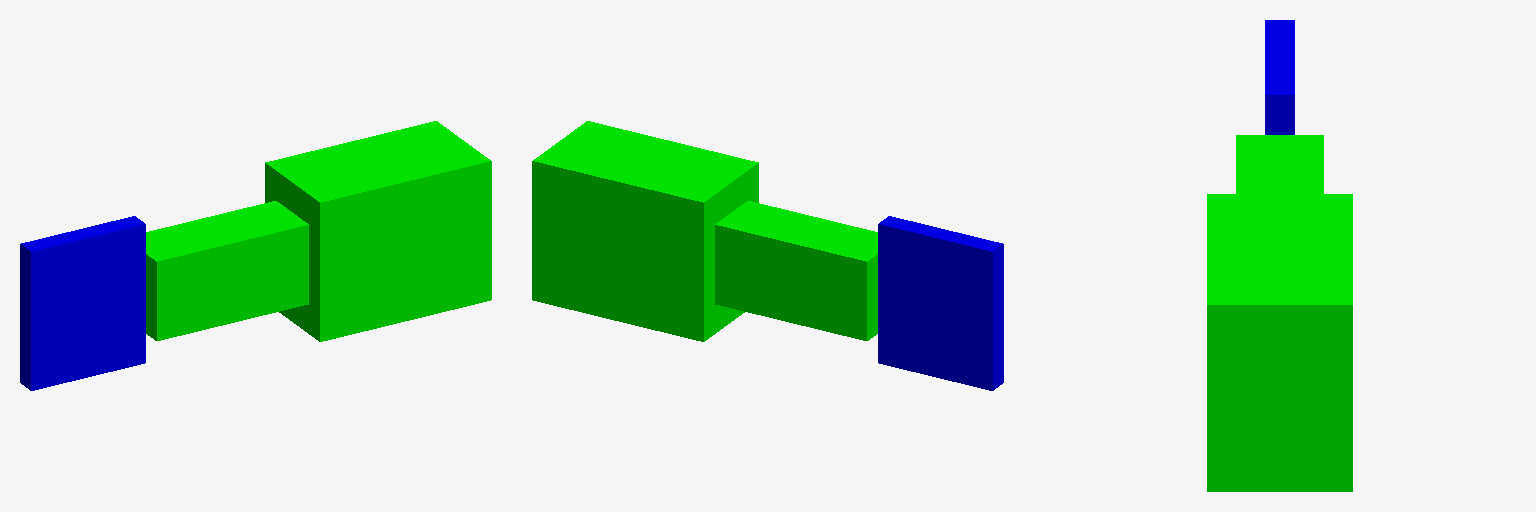
The robot description file, URDF, robot "robot":
<robot name = "robot">
    <link name="root">
        <inertial>
            <origin xyz="0.0 0.0 1.5" rpy="0 0 0"/>
            <mass value="1" />
            <inertia ixx="100" ixy="0" ixz="0" iyy="100" iyz="0" izz="100" />
        </inertial>
        <visual>
            <origin xyz="0.0 0.0 1.5" rpy="0 0 0"/>
            <geometry>
                <box size="0 0 0.0001" />
            </geometry>
            <material name="Green">
                <color rgba="0 1.0 0.0 1.0"/>
            </material>
        </visual>
        <collision>
            <origin xyz="0.0 0.0 1.5" rpy="0 0 0"/>
            <geometry>
                <box size="0 0 0.0001" />
            </geometry>
        </collision>
    </link>
    <joint name="root_000" type="revolute">
       <parent link="root"/>
       <child  link="000"/>
       <origin rpy="0 0 0" xyz="0.0 0.0 1.5" />
     <axis xyz="1 0 0"/>
       <limit effort="0.0" lower="-3.14159" upper="3.14159" velocity="0.0"/>
    </joint>
    <link name="000">
        <inertial>
            <origin xyz="0.0 0.0 -0.35" rpy="0 0 0"/>
            <mass value="1" />
            <inertia ixx="100" ixy="0" ixz="0" iyy="100" iyz="0" izz="100" />
        </inertial>
        <visual>
            <origin xyz="0.0 0.0 -0.35" rpy="0 0 0"/>
            <geometry>
                <box size="0.6 0.1 0.7" />
            </geometry>
            <material name="Blue">
                <color rgba="0 0.0 1.0 1.0"/>
            </material>
        </visual>
        <collision>
            <origin xyz="0.0 0.0 -0.35" rpy="0 0 0"/>
            <geometry>
                <box size="0.6 0.1 0.7" />
            </geometry>
        </collision>
    </link>
    <joint name="000_000-100" type="revolute">
       <parent link="000"/>
       <child  link="000-100"/>
       <origin rpy="0 0 0" xyz="0.3 0.0 -0.35" />
     <axis xyz="1 0 0"/>
       <limit effort="0.0" lower="-3.14159" upper="3.14159" velocity="0.0"/>
    </joint>
    <link name="000-100">
        <inertial>
            <origin xyz="0.2 0.0 -0.0" rpy="0 0 0"/>
            <mass value="1" />
            <inertia ixx="100" ixy="0" ixz="0" iyy="100" iyz="0" izz="100" />
        </inertial>
        <visual>
            <origin xyz="0.2 0.0 -0.0" rpy="0 0 0"/>
            <geometry>
                <box size="0.4 0.3 0.4" />
            </geometry>
            <material name="Green">
                <color rgba="0 1.0 0.0 1.0"/>
            </material>
        </visual>
        <collision>
            <origin xyz="0.2 0.0 -0.0" rpy="0 0 0"/>
            <geometry>
                <box size="0.4 0.3 0.4" />
            </geometry>
        </collision>
    </link>
    <joint name="000-100_000-110" type="revolute">
       <parent link="000-100"/>
       <child  link="000-110"/>
       <origin rpy="0 0 0" xyz="0.4 0.0 -0.0" />
     <axis xyz="1 0 0"/>
       <limit effort="0.0" lower="-3.14159" upper="3.14159" velocity="0.0"/>
    </joint>
    <link name="000-110">
        <inertial>
            <origin xyz="0.2 0.0 -0.0" rpy="0 0 0"/>
            <mass value="1" />
            <inertia ixx="100" ixy="0" ixz="0" iyy="100" iyz="0" izz="100" />
        </inertial>
        <visual>
            <origin xyz="0.2 0.0 -0.0" rpy="0 0 0"/>
            <geometry>
                <box size="0.4 0.3 0.4" />
            </geometry>
            <material name="Green">
                <color rgba="0 1.0 0.0 1.0"/>
            </material>
        </visual>
        <collision>
            <origin xyz="0.2 0.0 -0.0" rpy="0 0 0"/>
            <geometry>
                <box size="0.4 0.3 0.4" />
            </geometry>
        </collision>
    </link>
    <joint name="000-110_000-110-200" type="revolute">
       <parent link="000-110"/>
       <child  link="000-110-200"/>
       <origin rpy="0 0 0" xyz="0.4 0.0 -0.0" />
     <axis xyz="1 0 0"/>
       <limit effort="0.0" lower="-3.14159" upper="3.14159" velocity="0.0"/>
    </joint>
    <link name="000-110-200">
        <inertial>
            <origin xyz="0.15 0.0 -0.0" rpy="0 0 0"/>
            <mass value="1" />
            <inertia ixx="100" ixy="0" ixz="0" iyy="100" iyz="0" izz="100" />
        </inertial>
        <visual>
            <origin xyz="0.15 0.0 -0.0" rpy="0 0 0"/>
            <geometry>
                <box size="0.3 0.5 0.7" />
            </geometry>
            <material name="Green">
                <color rgba="0 1.0 0.0 1.0"/>
            </material>
        </visual>
        <collision>
            <origin xyz="0.15 0.0 -0.0" rpy="0 0 0"/>
            <geometry>
                <box size="0.3 0.5 0.7" />
            </geometry>
        </collision>
    </link>
    <joint name="000-110-200_000-110-210" type="revolute">
       <parent link="000-110-200"/>
       <child  link="000-110-210"/>
       <origin rpy="0 0 0" xyz="0.3 0.0 -0.0" />
     <axis xyz="1 0 0"/>
       <limit effort="0.0" lower="-3.14159" upper="3.14159" velocity="0.0"/>
    </joint>
    <link name="000-110-210">
        <inertial>
            <origin xyz="0.15 0.0 -0.0" rpy="0 0 0"/>
            <mass value="1" />
            <inertia ixx="100" ixy="0" ixz="0" iyy="100" iyz="0" izz="100" />
        </inertial>
        <visual>
            <origin xyz="0.15 0.0 -0.0" rpy="0 0 0"/>
            <geometry>
                <box size="0.3 0.5 0.7" />
            </geometry>
            <material name="Green">
                <color rgba="0 1.0 0.0 1.0"/>
            </material>
        </visual>
        <collision>
            <origin xyz="0.15 0.0 -0.0" rpy="0 0 0"/>
            <geometry>
                <box size="0.3 0.5 0.7" />
            </geometry>
        </collision>
    </link>
    <joint name="000-110-210_000-110-220" type="revolute">
       <parent link="000-110-210"/>
       <child  link="000-110-220"/>
       <origin rpy="0 0 0" xyz="0.3 0.0 -0.0" />
     <axis xyz="1 0 0"/>
       <limit effort="0.0" lower="-3.14159" upper="3.14159" velocity="0.0"/>
    </joint>
    <link name="000-110-220">
        <inertial>
            <origin xyz="0.15 0.0 -0.0" rpy="0 0 0"/>
            <mass value="1" />
            <inertia ixx="100" ixy="0" ixz="0" iyy="100" iyz="0" izz="100" />
        </inertial>
        <visual>
            <origin xyz="0.15 0.0 -0.0" rpy="0 0 0"/>
            <geometry>
                <box size="0.3 0.5 0.7" />
            </geometry>
            <material name="Green">
                <color rgba="0 1.0 0.0 1.0"/>
            </material>
        </visual>
        <collision>
            <origin xyz="0.15 0.0 -0.0" rpy="0 0 0"/>
            <geometry>
                <box size="0.3 0.5 0.7" />
            </geometry>
        </collision>
    </link>
</robot>

--- Render facts (derived) ---
Views: 3 orthographic renders of the robot side by side, from view 1: azimuth 30°, elevation 25°; view 2: azimuth 150°, elevation 25°; view 3: azimuth 270°, elevation 25°.
Robot: robot — 7 links, 6 joints (6 revolute); root link root; default pose: every joint at zero.
Visible links, largest first — view 1: [phone redacted] (×3), 000, 000-100, 000-110; view 2: [phone redacted] (×3), 000, 000-100, 000-110; view 3: [phone redacted] (×3), 000-100, 000, 000-110.
Link boxes in pixels (x1=…): [phone redacted] (×3): x1=265, y1=121, x2=491, y2=341; 000: x1=20, y1=216, x2=145, y2=390; 000-100: x1=146, y1=219, x2=232, y2=340; 000-110: x1=201, y1=201, x2=308, y2=322; [phone redacted] (×3): x1=532, y1=121, x2=758, y2=341; 000: x1=878, y1=216, x2=1003, y2=390; 000-100: x1=791, y1=219, x2=877, y2=340; 000-110: x1=715, y1=201, x2=822, y2=322; [phone redacted] (×3): x1=1207, y1=194, x2=1352, y2=491; 000-100: x1=1236, y1=135, x2=1323, y2=183; 000: x1=1265, y1=20, x2=1294, y2=134; 000-110: x1=1236, y1=184, x2=1323, y2=193.
Size in the robot's own frame: 2.3 by 0.5 by 0.7 metres.
Geometry: primitives only (box / cylinder / sphere), no mesh files.
